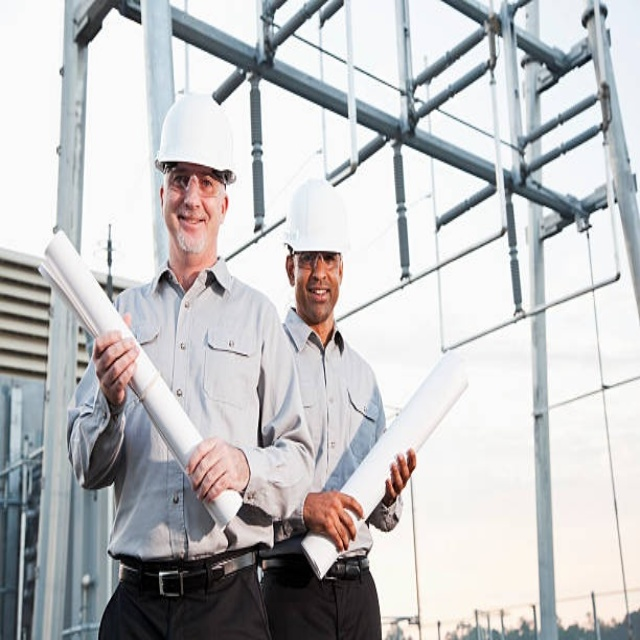Gafas: (162, 166, 227, 196), (290, 250, 341, 273)
Sin_guantes: (91, 312, 142, 405), (187, 438, 249, 505), (303, 489, 365, 551), (382, 445, 419, 507)
Sin_mascara: (175, 207, 205, 246), (305, 279, 333, 311)
